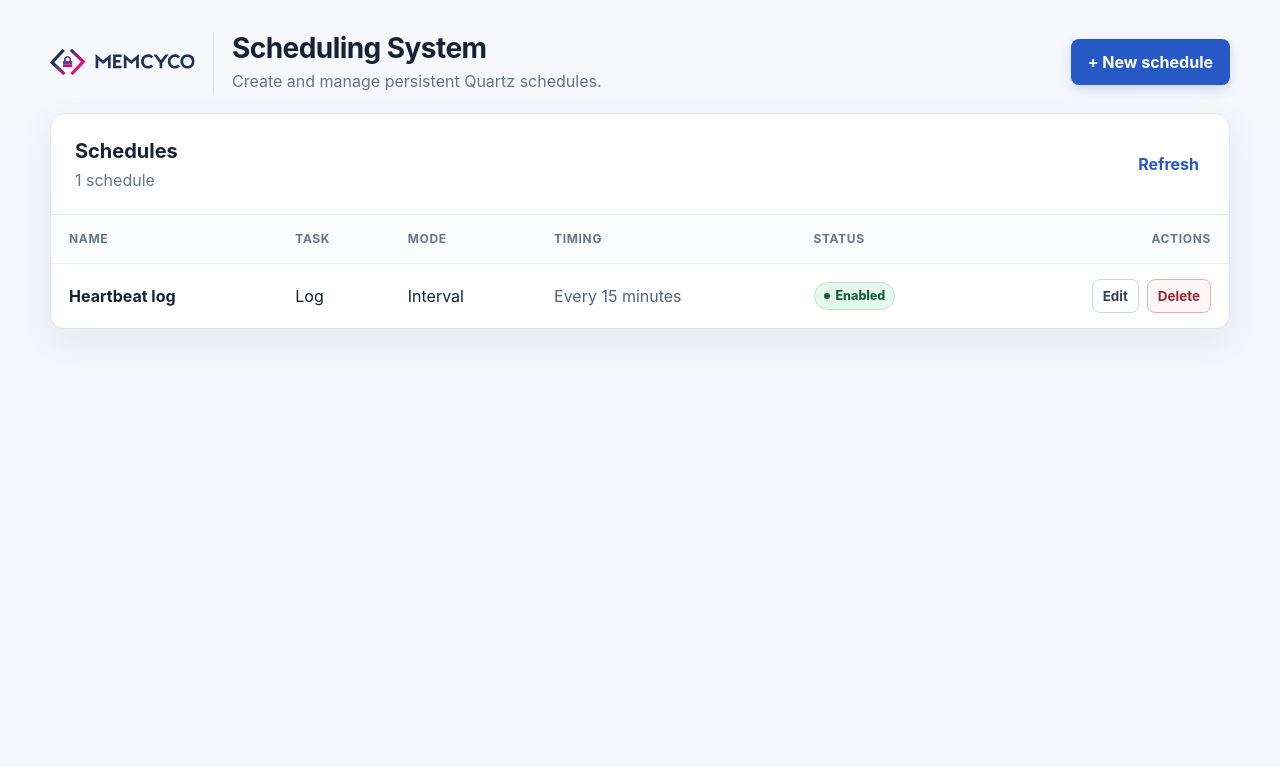
Test case: scheduling dashboard › edits an existing schedule and refreshes the table
This screenshot has width=1280, height=767.
Expected: the text "Heartbeat log" is shown, [69,286,176,306]
Click the button "Edit" at (1115, 296), box [1092,279,1139,313]
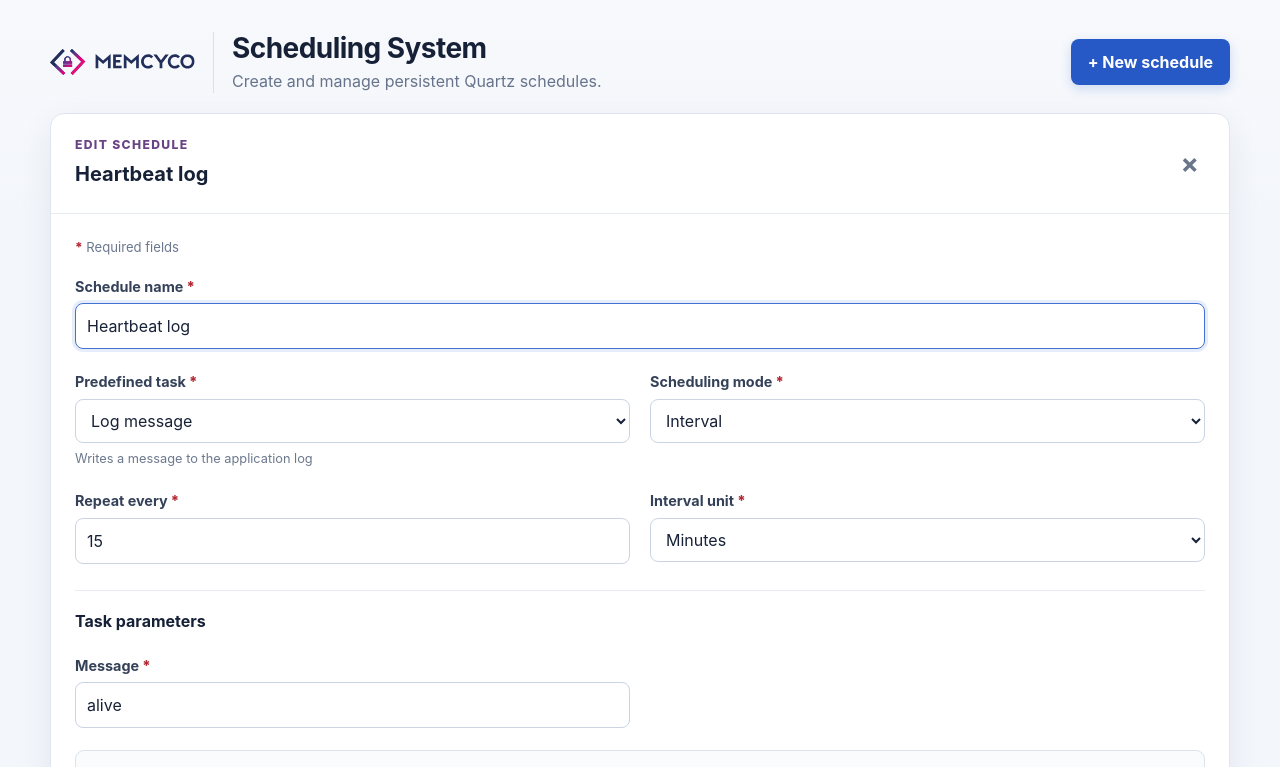
Expected: the number field labelled "Repeat every" holds "15"
Expected: the dropdown labelled "Interval unit" shows "Minutes", [650,518,1205,562]
Clear the number field labelled "Repeat every" at (352, 540), box [75,518,630,564]
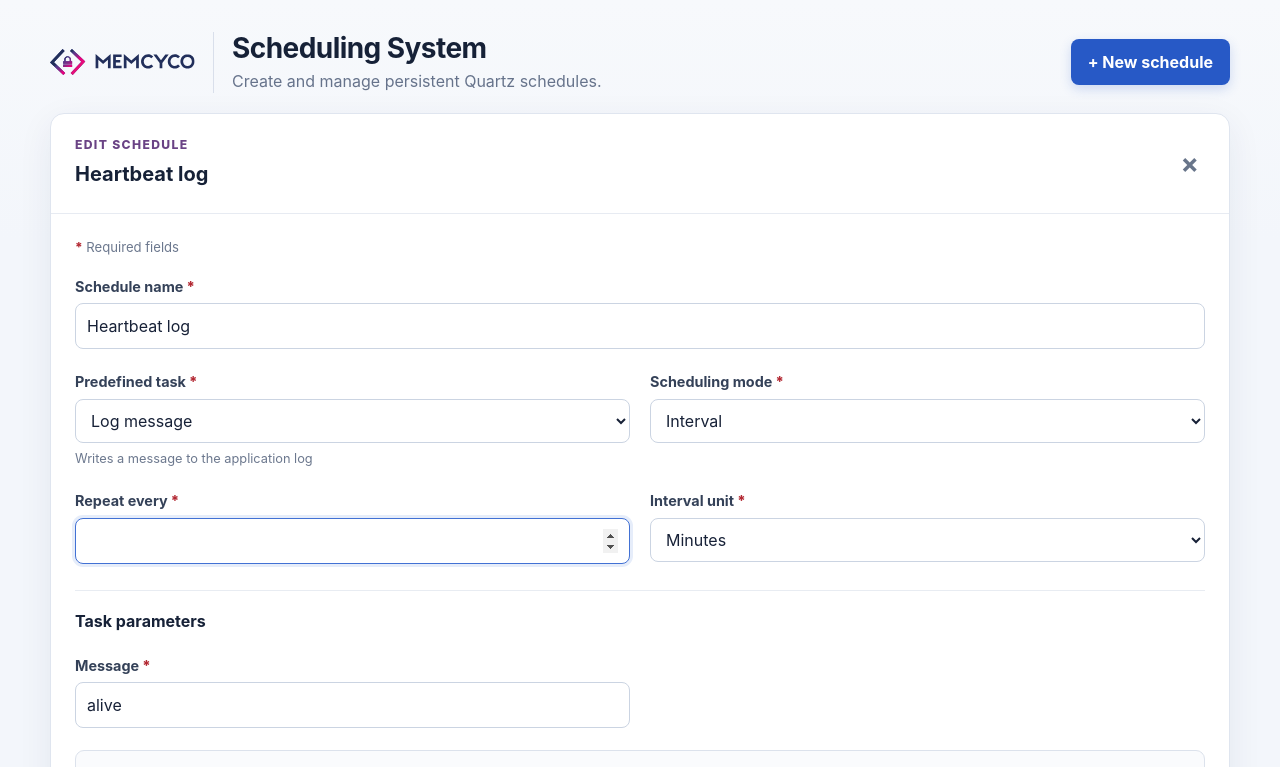
Type "15" into the number field labelled "Repeat every" at (352, 540), box [75,518,630,564]
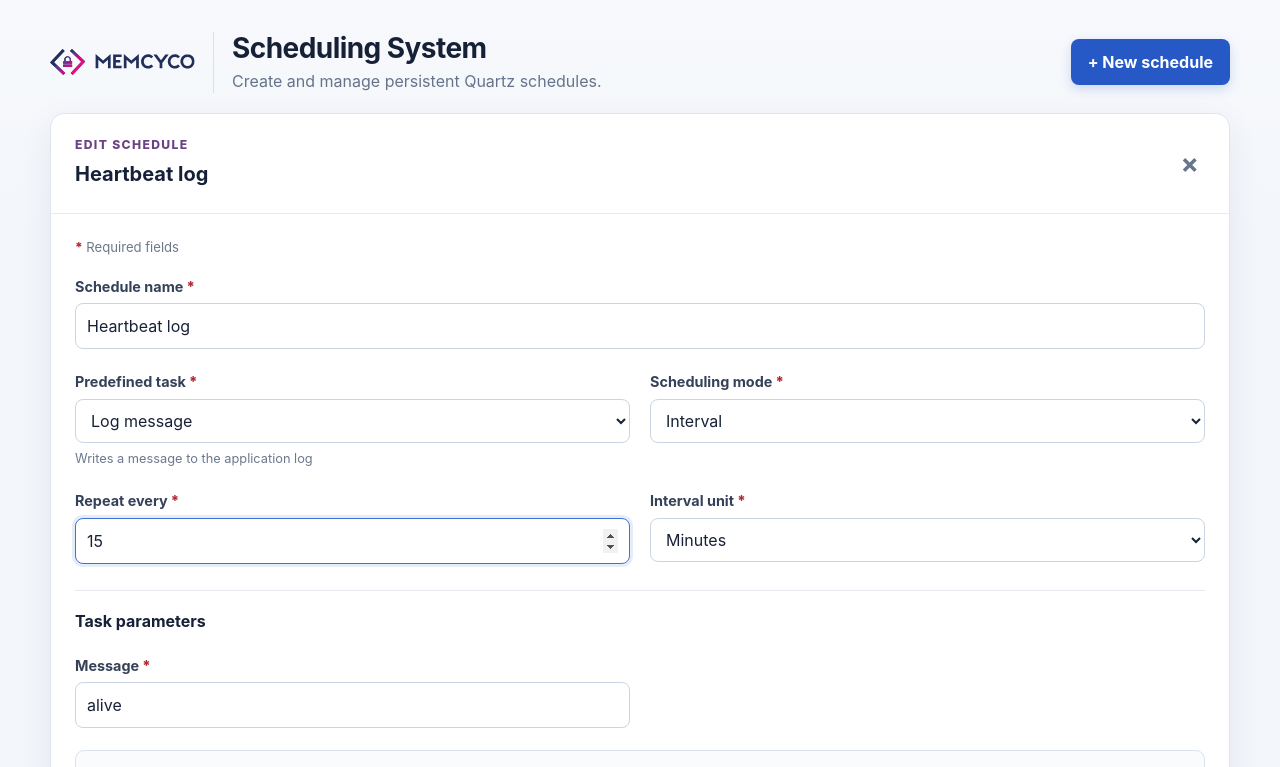
Replace the text in the field labelled "Schedule name" with "Updated heartbeat" at (640, 326), box [75,303,1205,349]
(page scrolled)
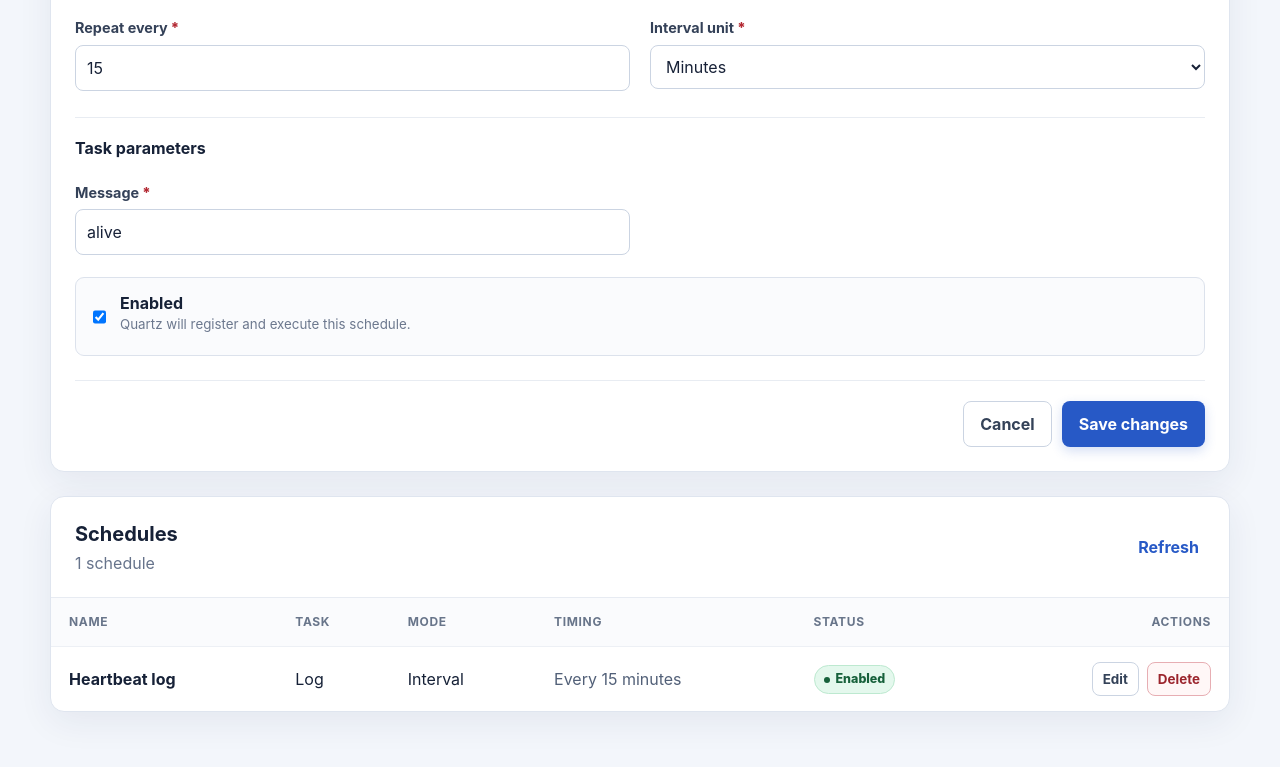
Click the button "Save changes" at (1133, 424), box [1062,401,1205,447]
(page scrolled)
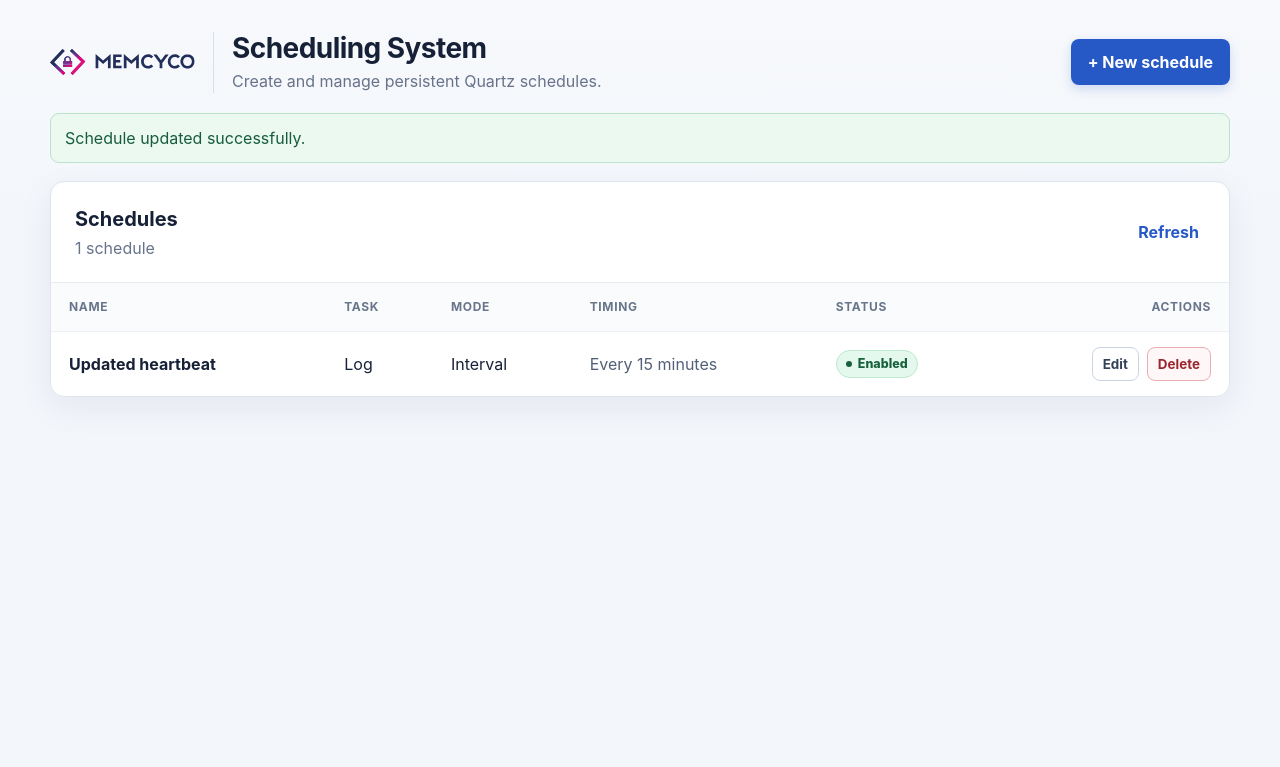
Expected: the text "Updated heartbeat" is shown, [69,354,216,374]
